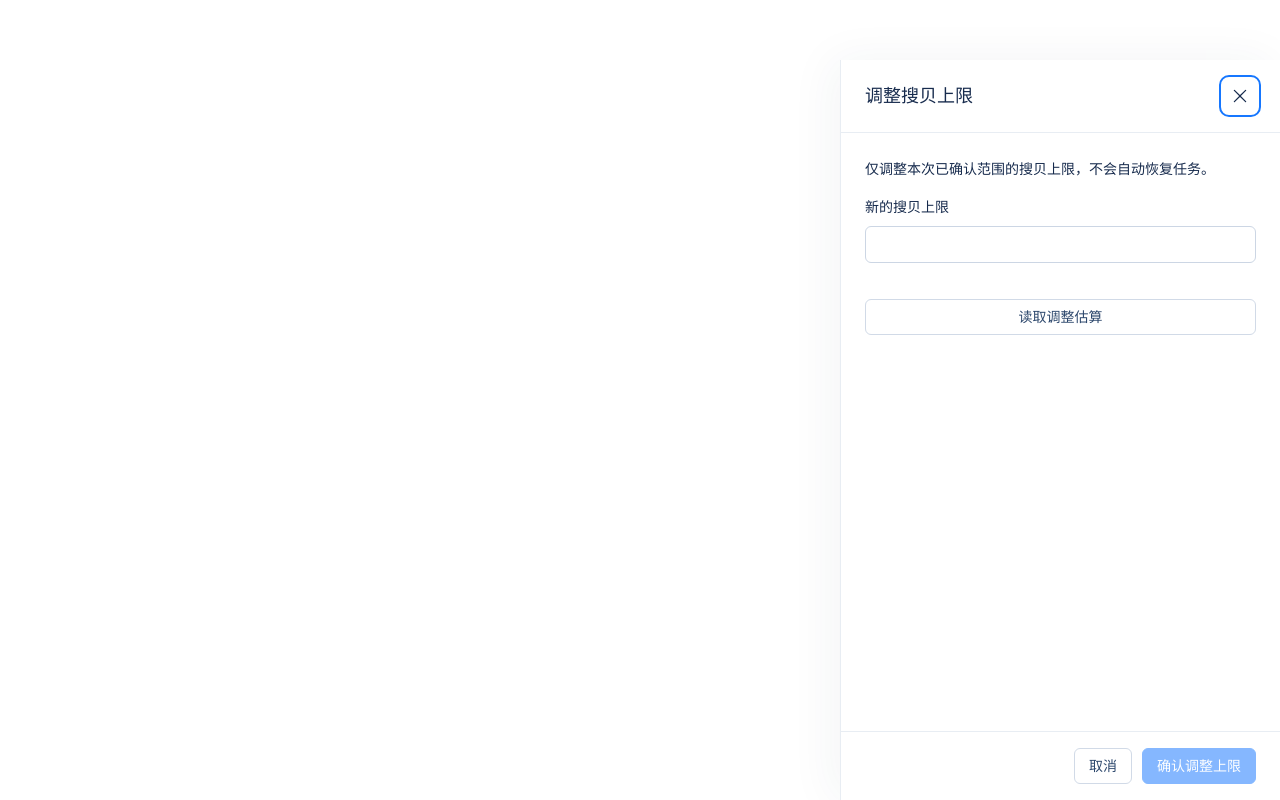
Test: does not query an adjustment from another account scope
Type "80" into the number field named "新的搜贝上限" at (1060,245), box top-left (865, 226), bottom-right (1256, 263)
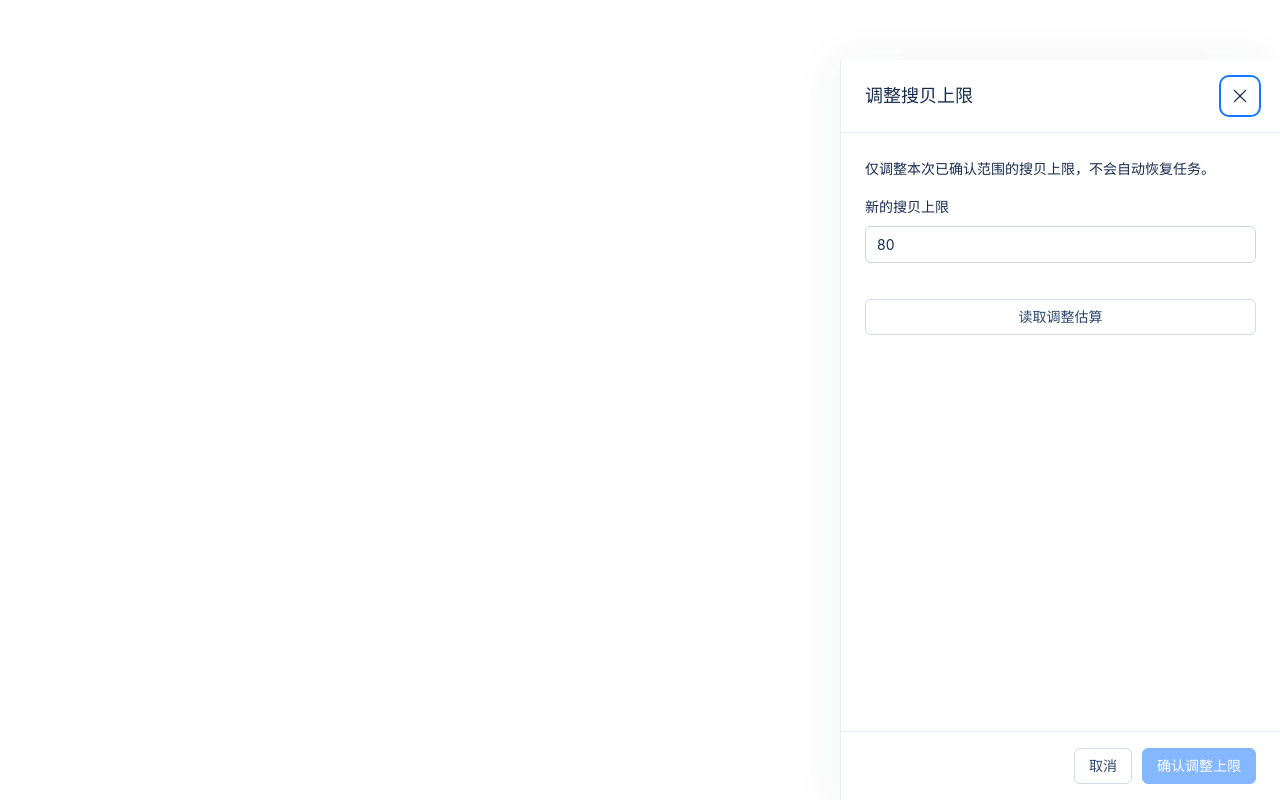
Click the button "读取调整估算" at (1060,317), box top-left (865, 299), bottom-right (1256, 335)
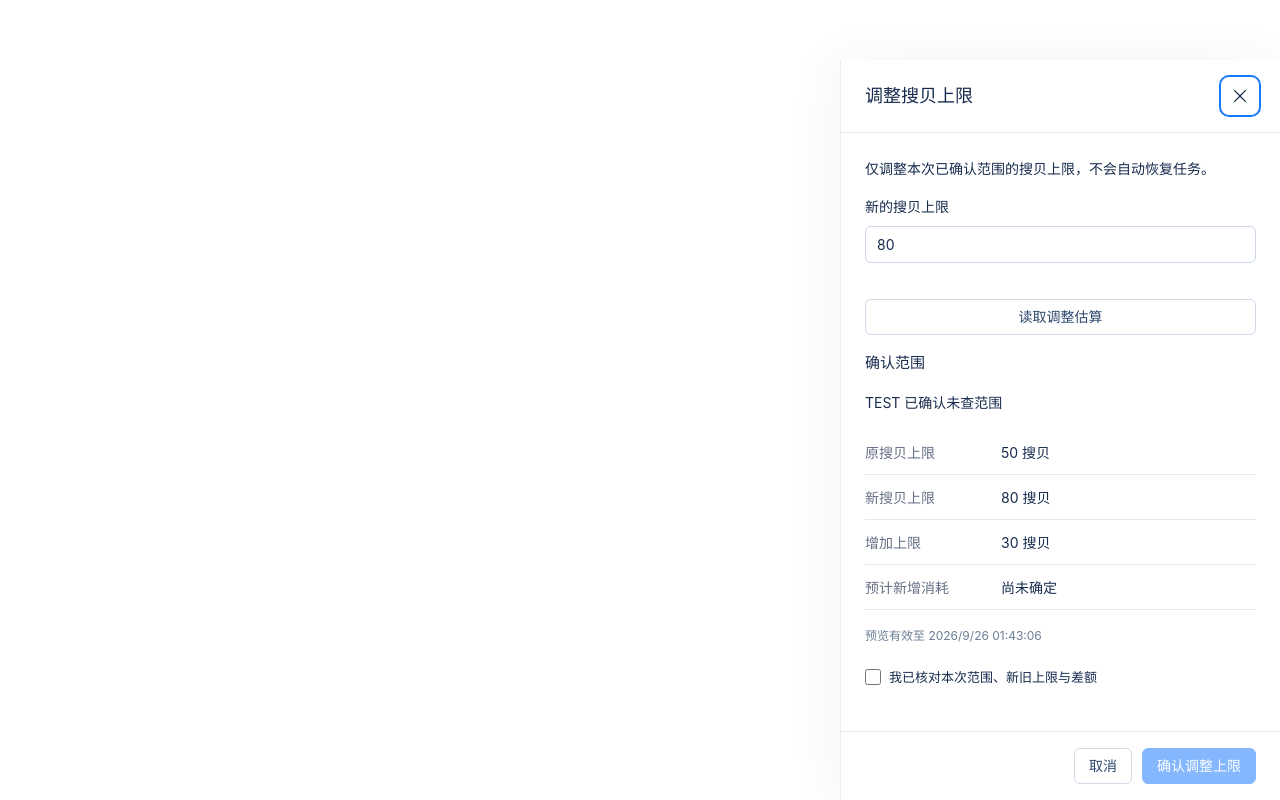
Expected: the text "30 搜贝" is shown, top-left (1001, 534), bottom-right (1050, 551)
Click the checkbox labelled "我已核对本次范围、新旧上限与差额" at (873,677), box top-left (865, 669), bottom-right (881, 685)
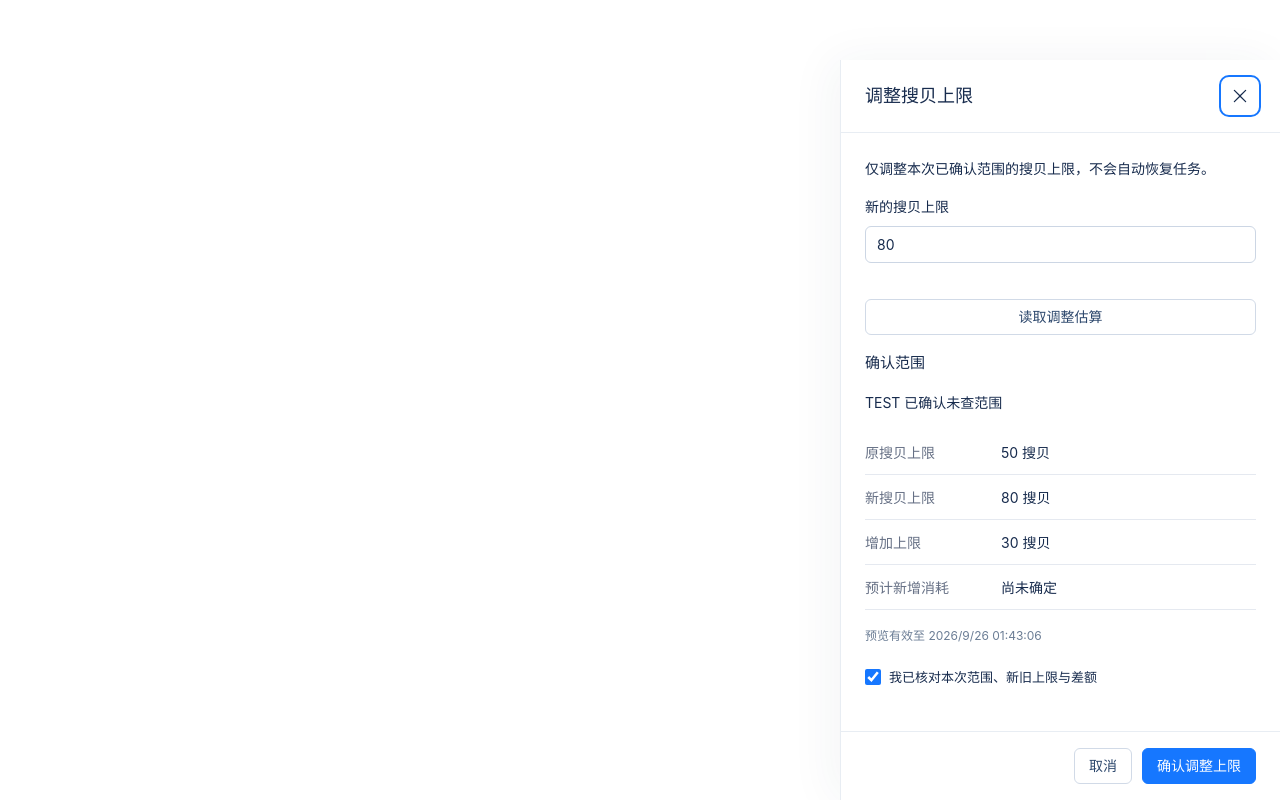
Click the button "确认调整上限" at (1199,766), box top-left (1142, 748), bottom-right (1256, 784)
(page scrolled)
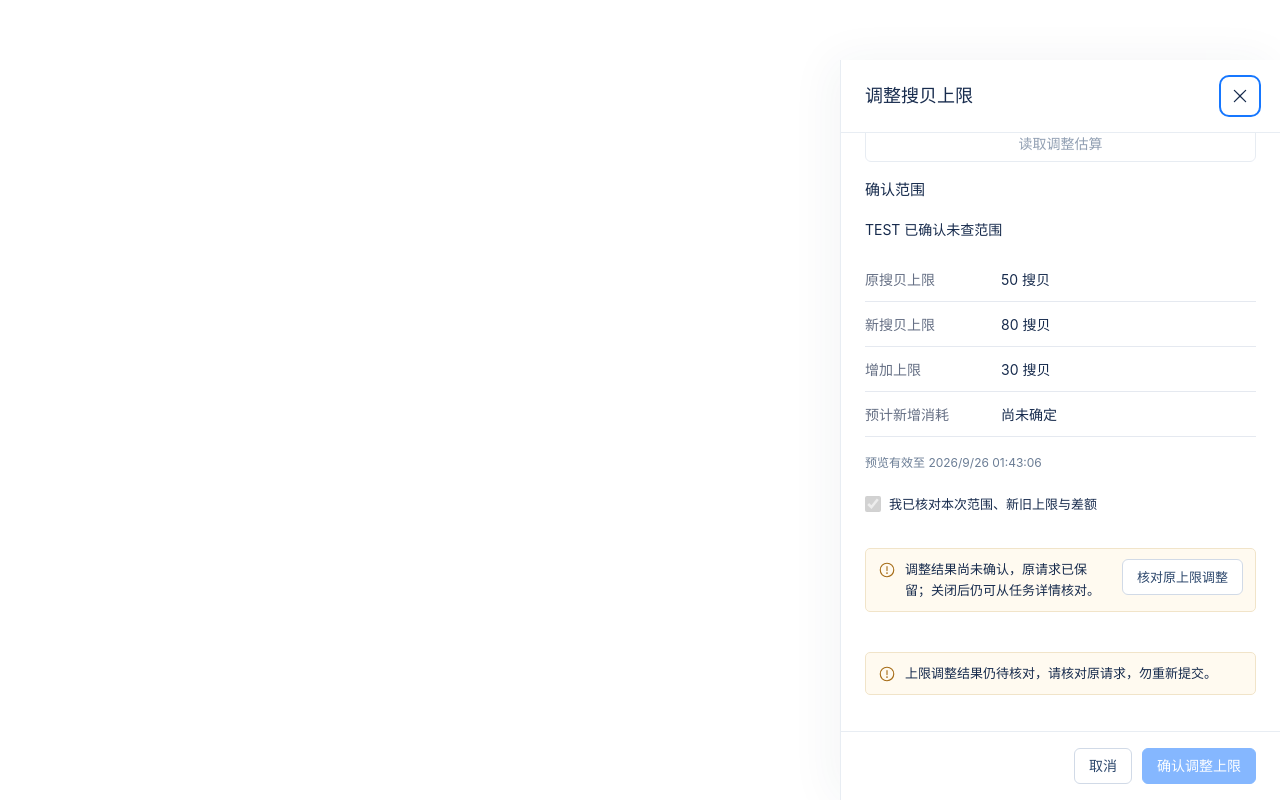
Expected: the text "上限调整结果仍待核对，请核对原请求，勿重新提交。" is shown, top-left (905, 663), bottom-right (1243, 684)
